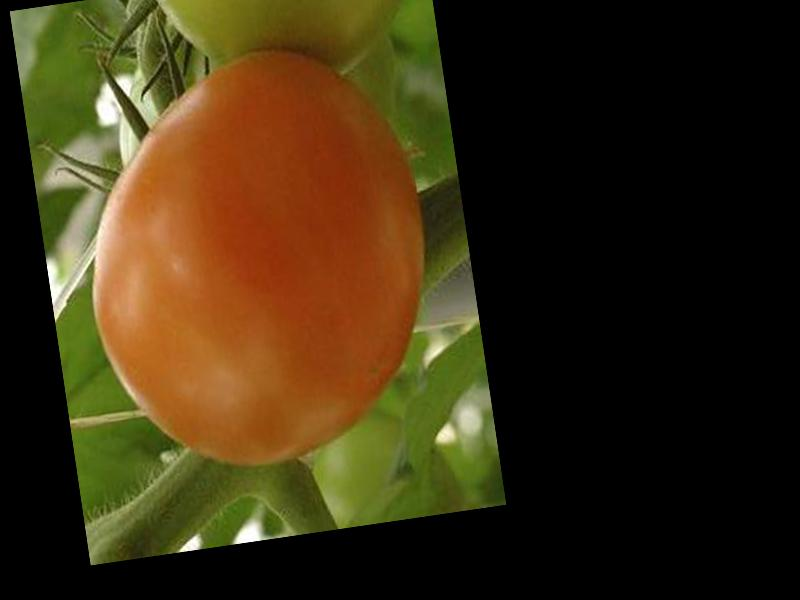Tomato: (59, 33, 453, 485)
